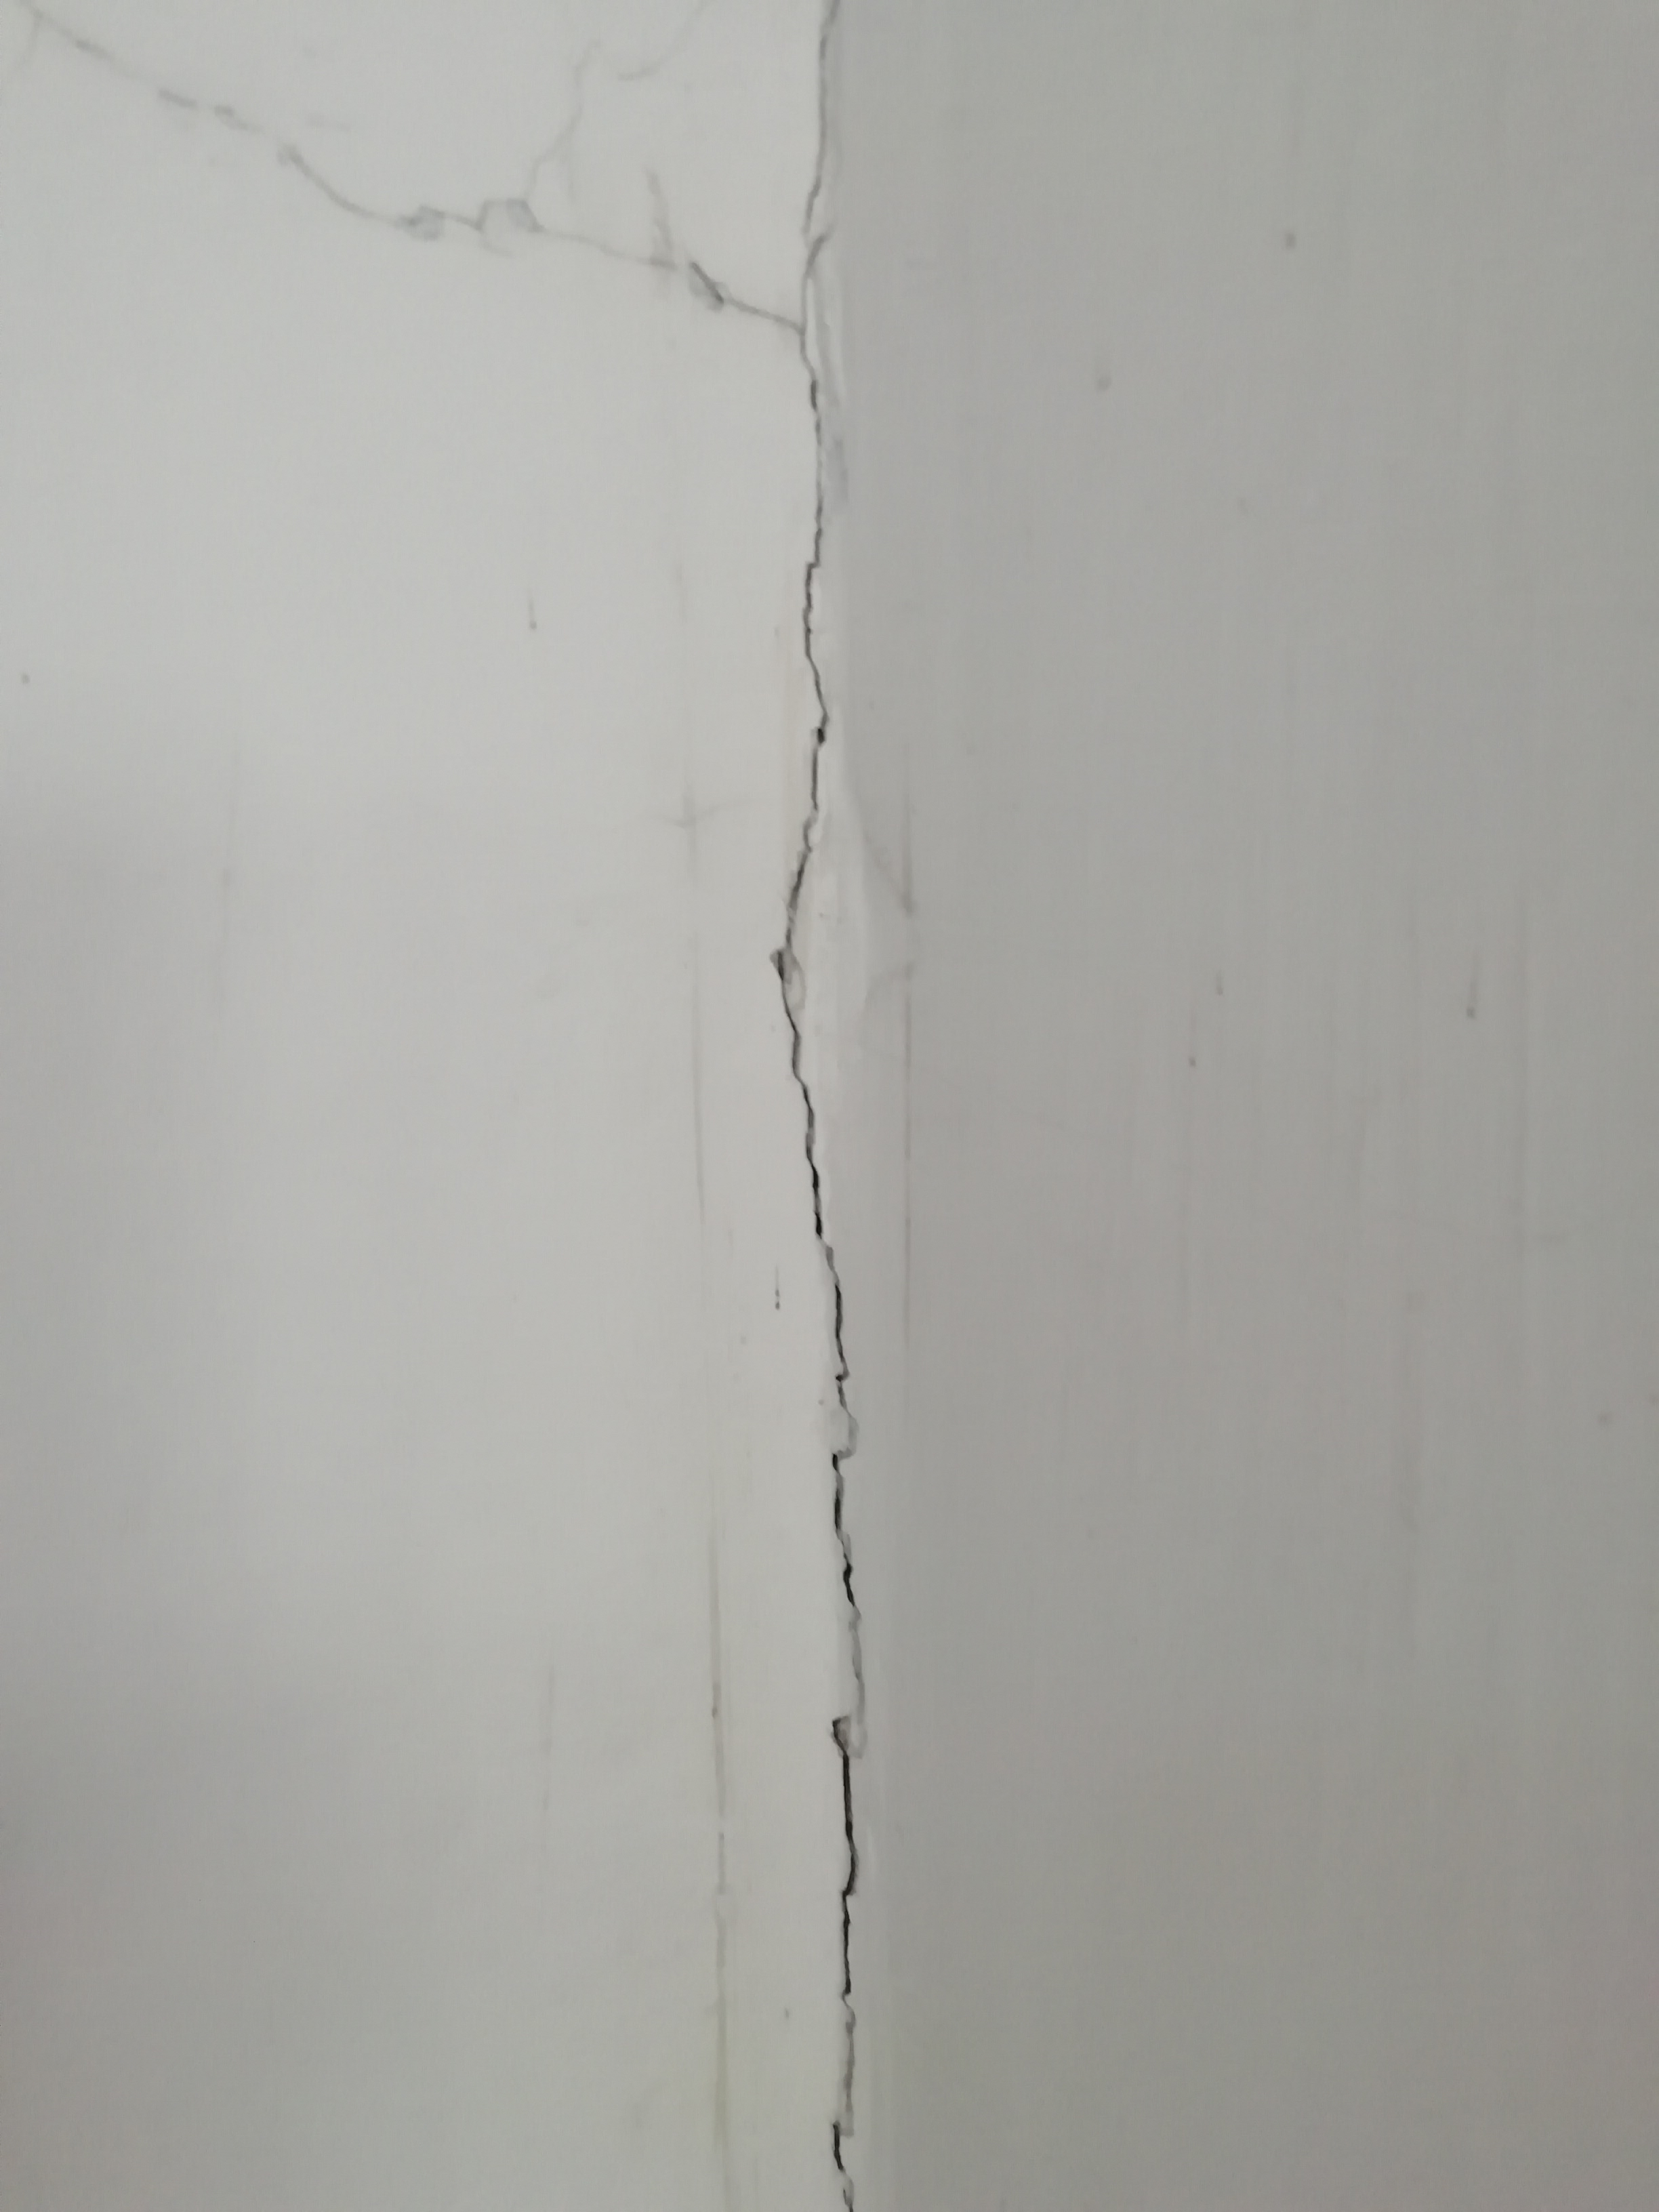Crack: (714, 326, 901, 2207)
